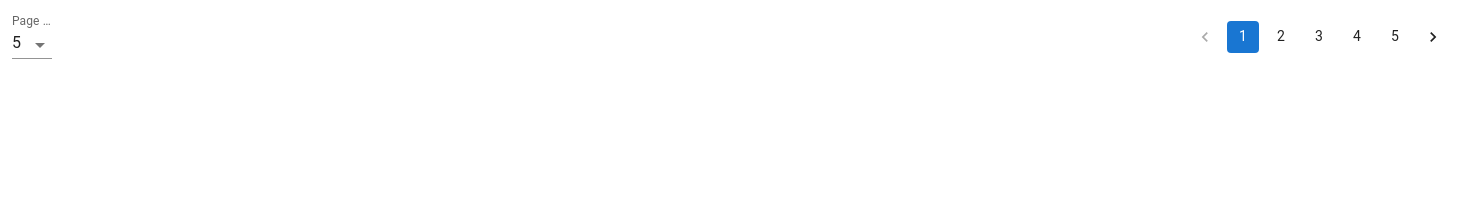
Test case: PaginationControls Component › renders custom page size options when provided
# Open dropdown
Press the mouse on the dropdown named "page size" at (17, 42), box [12,33,21,52]
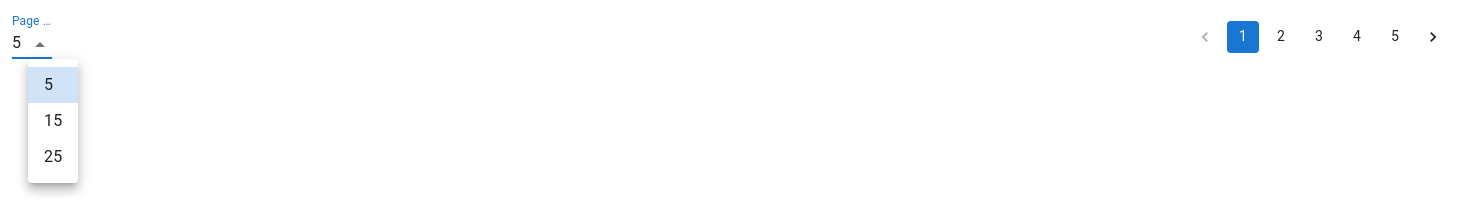
Check: the option "5" is shown, box [28,67,78,103]
Check: the option "15" is shown, box [44,111,62,130]
Check: the option "25" is shown, box [44,147,62,166]
